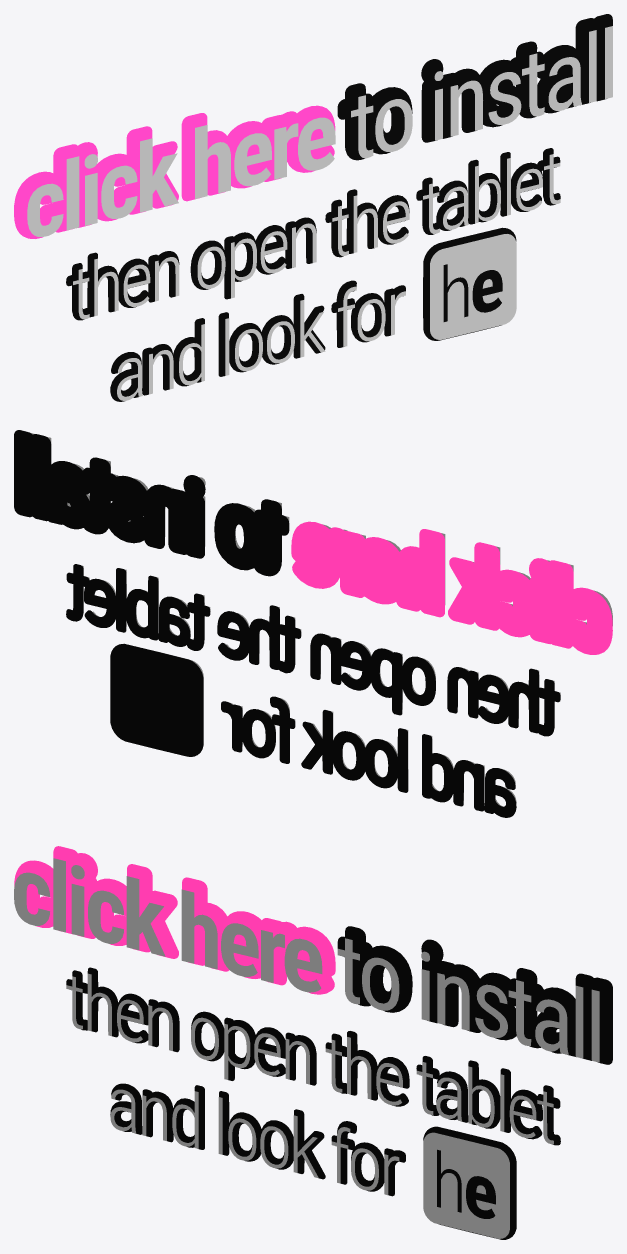
The model's file is intro.fbx.
3 renders of one model, top to bottom at view 1: azimuth 30°, elevation 25°; view 2: azimuth 150°, elevation 25°; view 3: azimuth 330°, elevation 25°, orthographic.
Visible parts, largest first — view 1: Curve.001; view 2: Curve.001; view 3: Curve.001.
Part boxes in pixels (left/top/right/bottom): Curve.001: left=14, top=14, right=612, bottom=401; Curve.001: left=14, top=430, right=612, bottom=817; Curve.001: left=14, top=846, right=612, bottom=1239.
Bounding box in the file's own units: 513 × 234 × 10.
